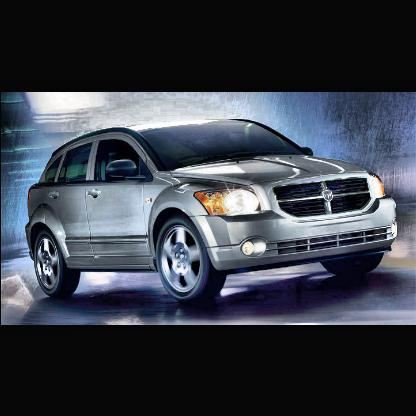Dodge Caliber Wagon 2012: (26, 119, 400, 302)
